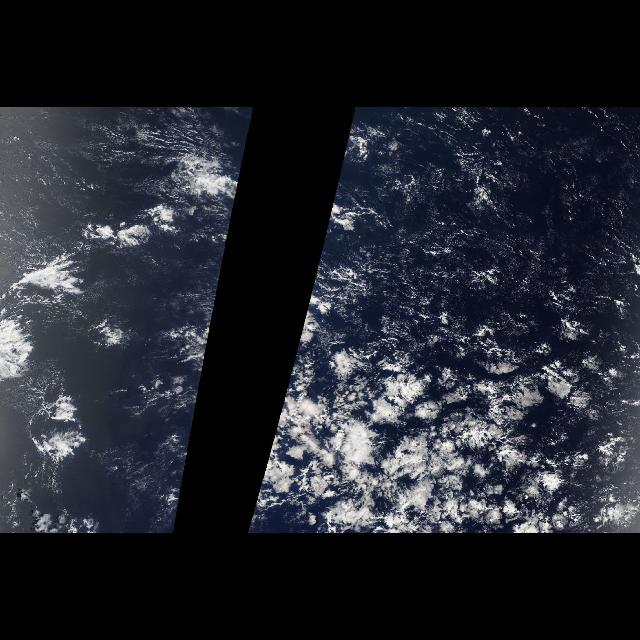Flower: (274, 285, 624, 533)
Gravel: (0, 126, 246, 460)
Sugar: (375, 125, 639, 272)
